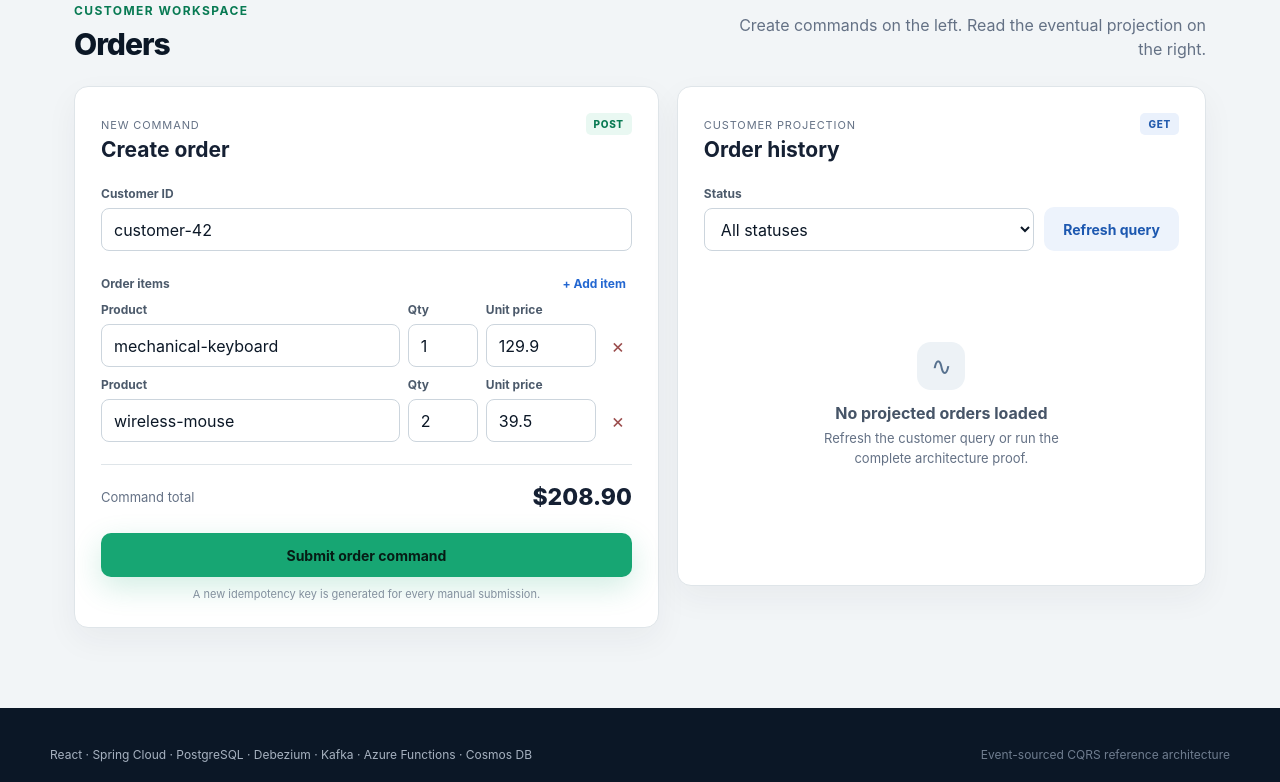
Test: App › presents inventory rejection as the terminal result of a manual submission
(page scrolled)
Click the button "Submit order command" at (366, 555), box [101,533,632,577]
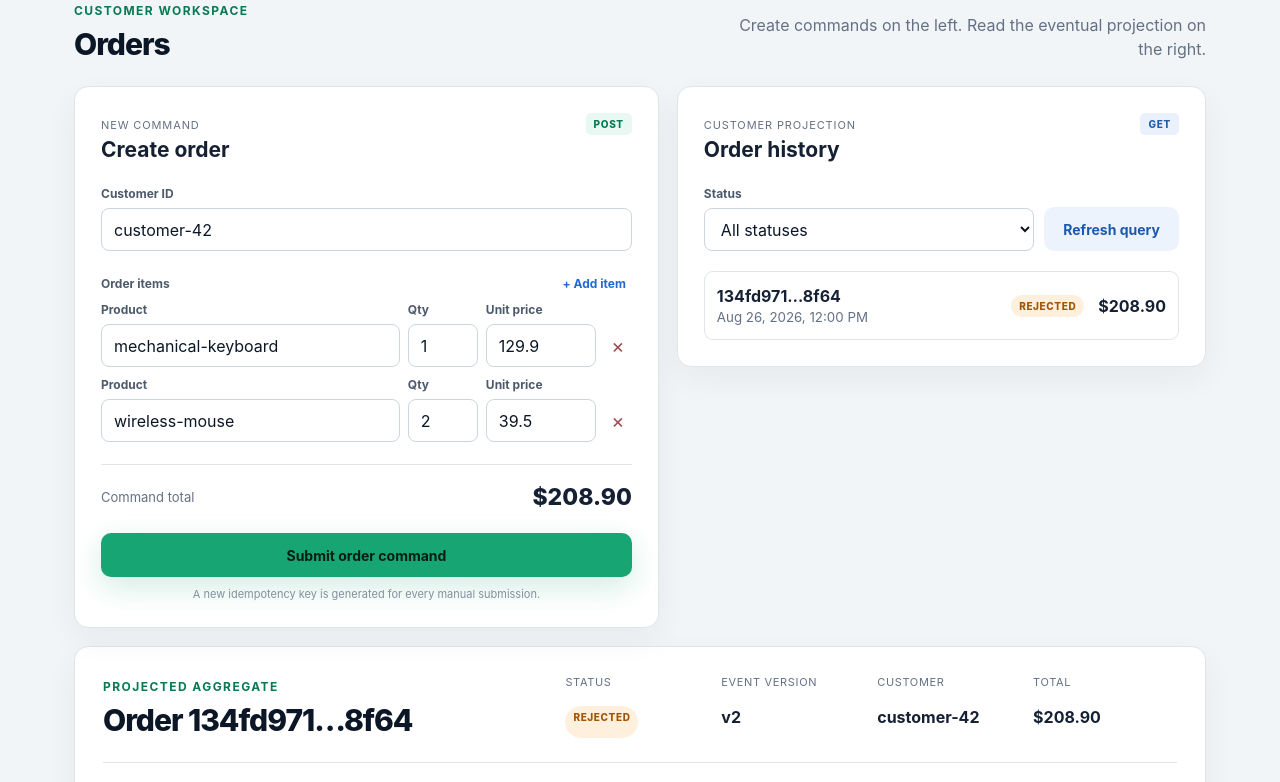
Check: the text "REJECTED" below "Order history" is shown, box [1019,300,1076,312]
